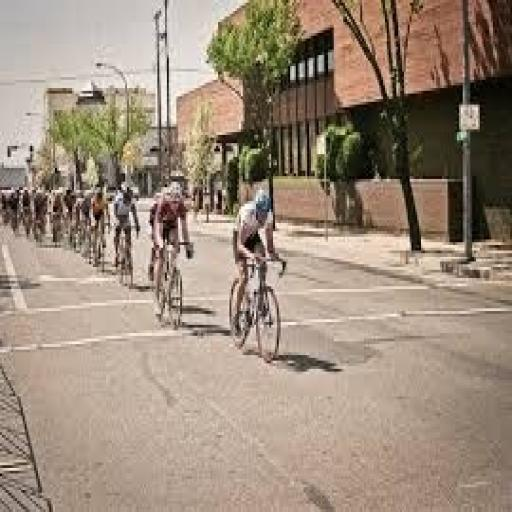cycling: (146, 176, 197, 328), (110, 176, 142, 286)
